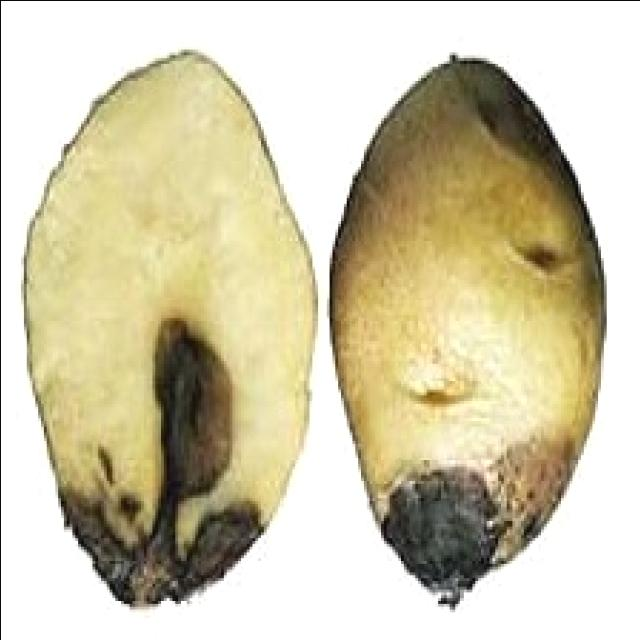blackleg: (0, 36, 324, 619), (320, 46, 621, 622)
